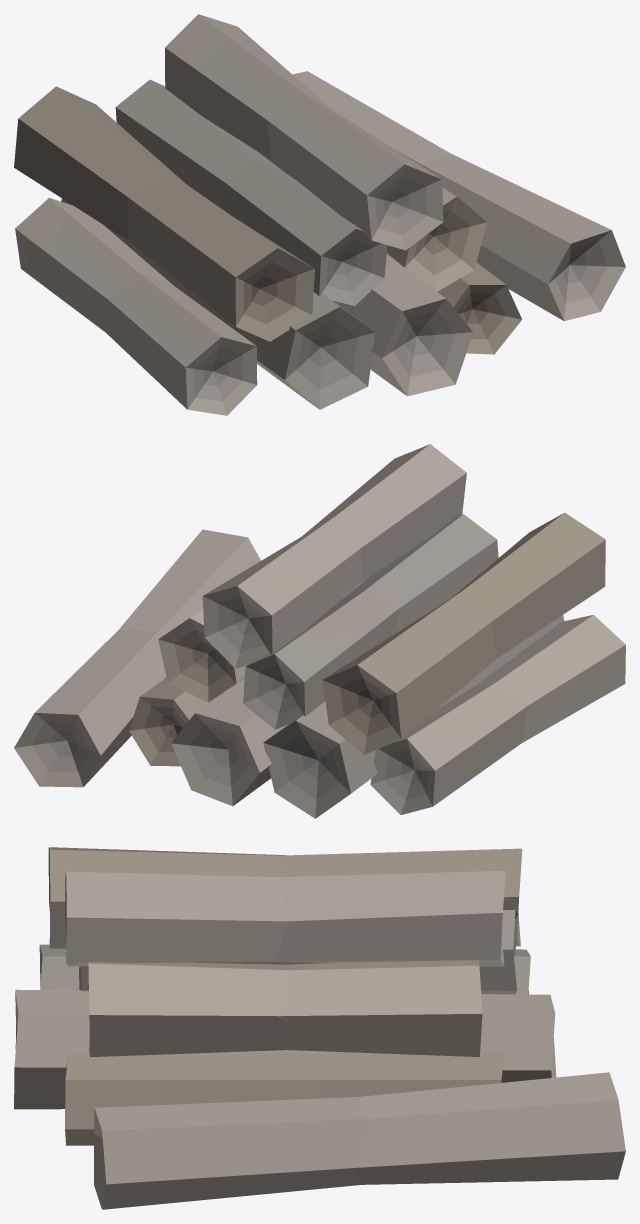
File: ancient_SM_Prop_Scroll_Pile_03.gltf
3 renders of one model, top to bottom at view 1: azimuth 30°, elevation 25°; view 2: azimuth 150°, elevation 25°; view 3: azimuth 270°, elevation 25°, orthographic. The views are drawn at different scales.
Parts seen in each view (by area): view 1: SM_Prop_Scroll_Pile_03; view 2: SM_Prop_Scroll_Pile_03; view 3: SM_Prop_Scroll_Pile_03.
Boxes of the visible parts, box(x1,y1,x2,y2) form: SM_Prop_Scroll_Pile_03: box(14, 14, 625, 415); SM_Prop_Scroll_Pile_03: box(14, 444, 625, 818); SM_Prop_Scroll_Pile_03: box(14, 847, 625, 1209).
Bounding box in the file's own units: 0.685 × 0.3119 × 0.7482.
1 material, 1 textured.
